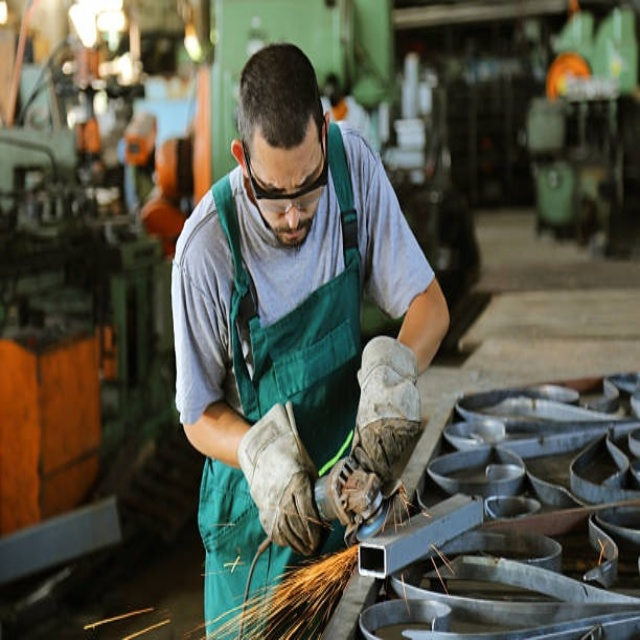Gafas: (243, 118, 329, 203)
Guantes: (238, 401, 324, 557), (348, 336, 424, 494)
Sin_mascara: (271, 216, 311, 251)
